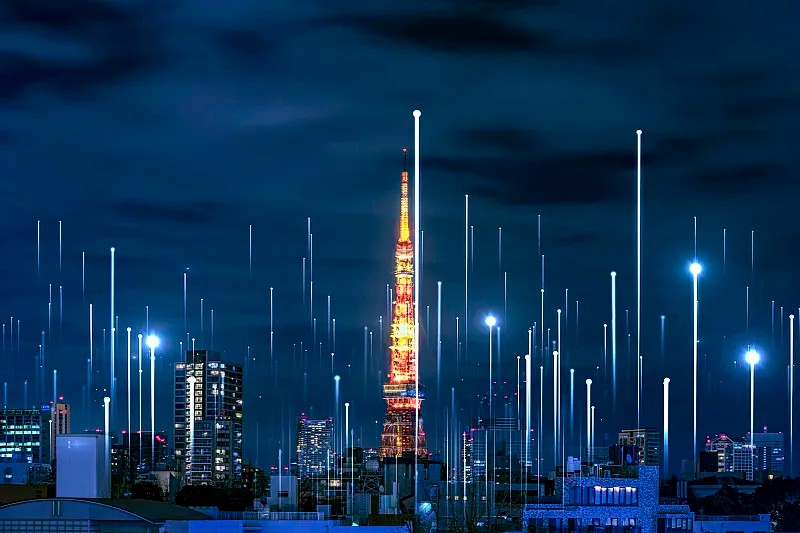Tokyo: (379, 144, 426, 463)
